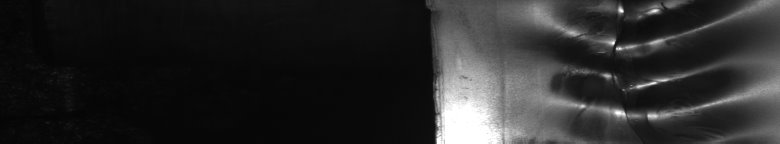ke: (551, 4, 751, 128)
